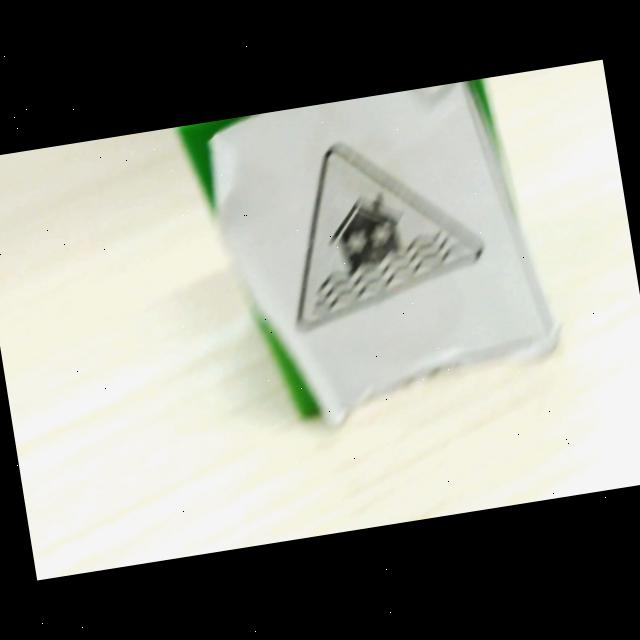Tsunami: (297, 144, 483, 330)
